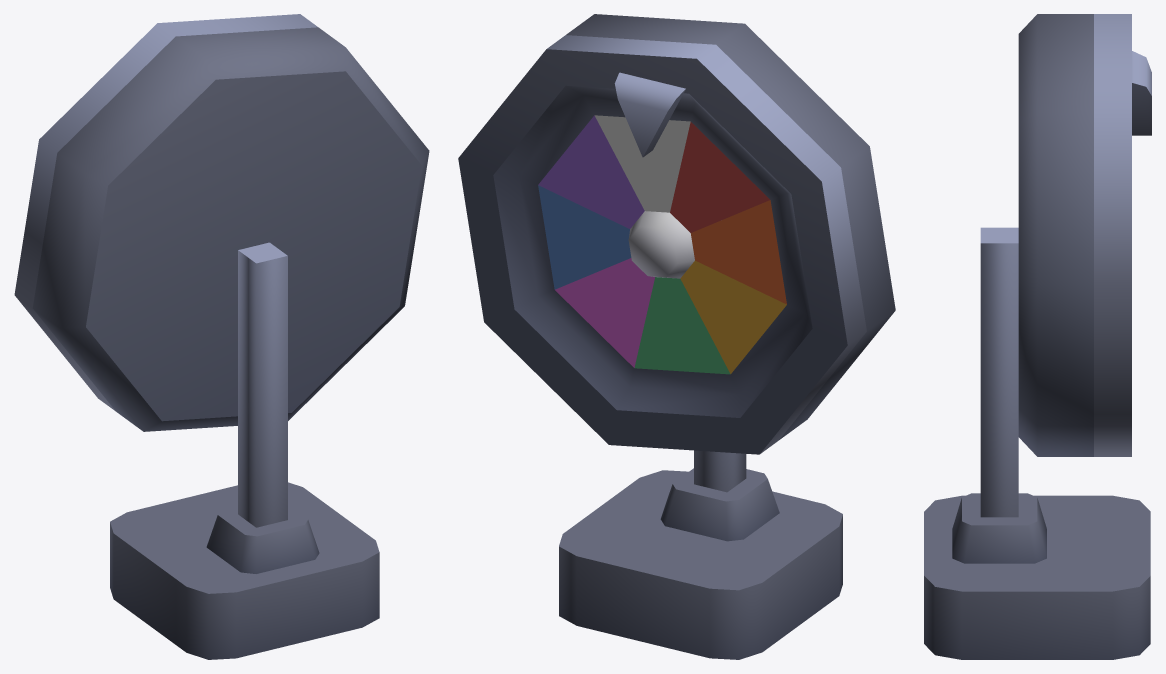
The model's file is prize_wheel.fbx.
The picture shows the model from 3 angles, left to right: view 1: azimuth 30°, elevation 25°; view 2: azimuth 150°, elevation 25°; view 3: azimuth 270°, elevation 25°; orthographic projection. The views are drawn at different scales.
Visible parts, largest first — view 1: prize-wheel; view 2: prize-wheel; view 3: prize-wheel.
Boxes of the visible parts, x1,y1,x2,y2 form: prize-wheel: (14, 14, 429, 659); prize-wheel: (458, 14, 895, 659); prize-wheel: (924, 14, 1151, 659).
Size of the model in its own units: 0.6439 by 0.9272 by 0.3318.
